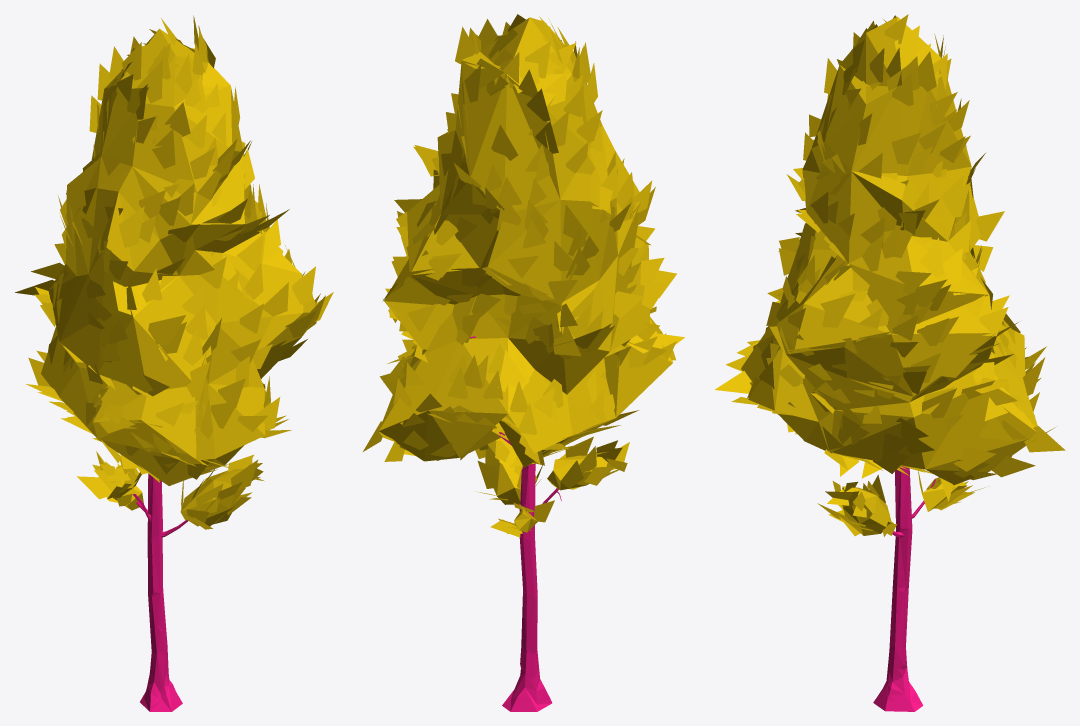
The model's file is SM_Tree_Birch_Mature_E.fbx.
The picture shows the model from 3 angles, left to right: view 1: azimuth 30°, elevation 25°; view 2: azimuth 150°, elevation 25°; view 3: azimuth 270°, elevation 25°; orthographic projection.
Visible parts, largest first — view 1: SM_Tree_Birch_Mature_E; view 2: SM_Tree_Birch_Mature_E; view 3: SM_Tree_Birch_Mature_E.
Boxes of the visible parts, x1=… form: SM_Tree_Birch_Mature_E: x1=15, y1=15, x2=333, y2=711; SM_Tree_Birch_Mature_E: x1=363, y1=14, x2=684, y2=711; SM_Tree_Birch_Mature_E: x1=714, y1=14, x2=1065, y2=711.
Size of the model in its own units: 4.04 by 11.24 by 5.18.
